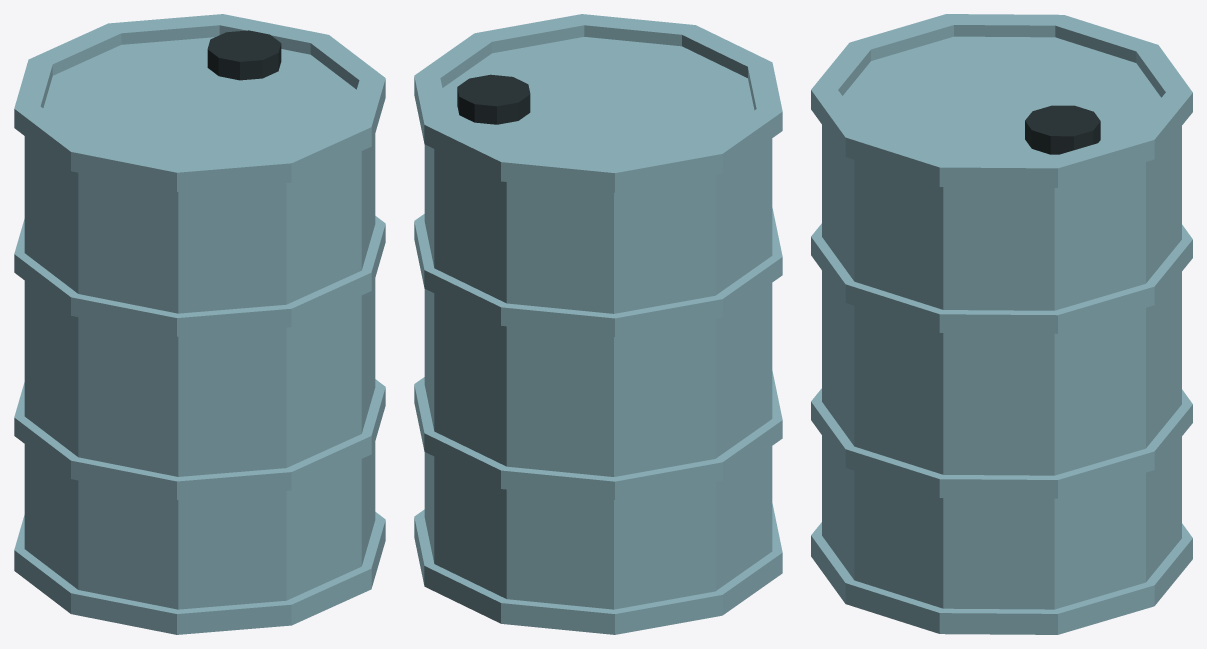
Rendered from 036 Oil_Drum.FBX.
3 renders of one model, left to right at view 1: azimuth 30°, elevation 25°; view 2: azimuth 150°, elevation 25°; view 3: azimuth 270°, elevation 25°, orthographic.
Visible parts, largest first — view 1: Cylinder175; view 2: Cylinder175; view 3: Cylinder175.
Part boxes in pixels (x1,y1,x2,y2): Cylinder175: (14, 14, 385, 634); Cylinder175: (414, 14, 782, 634); Cylinder175: (811, 14, 1192, 634).
Size of the model in its own units: 70.96 by 102 by 74.19.
